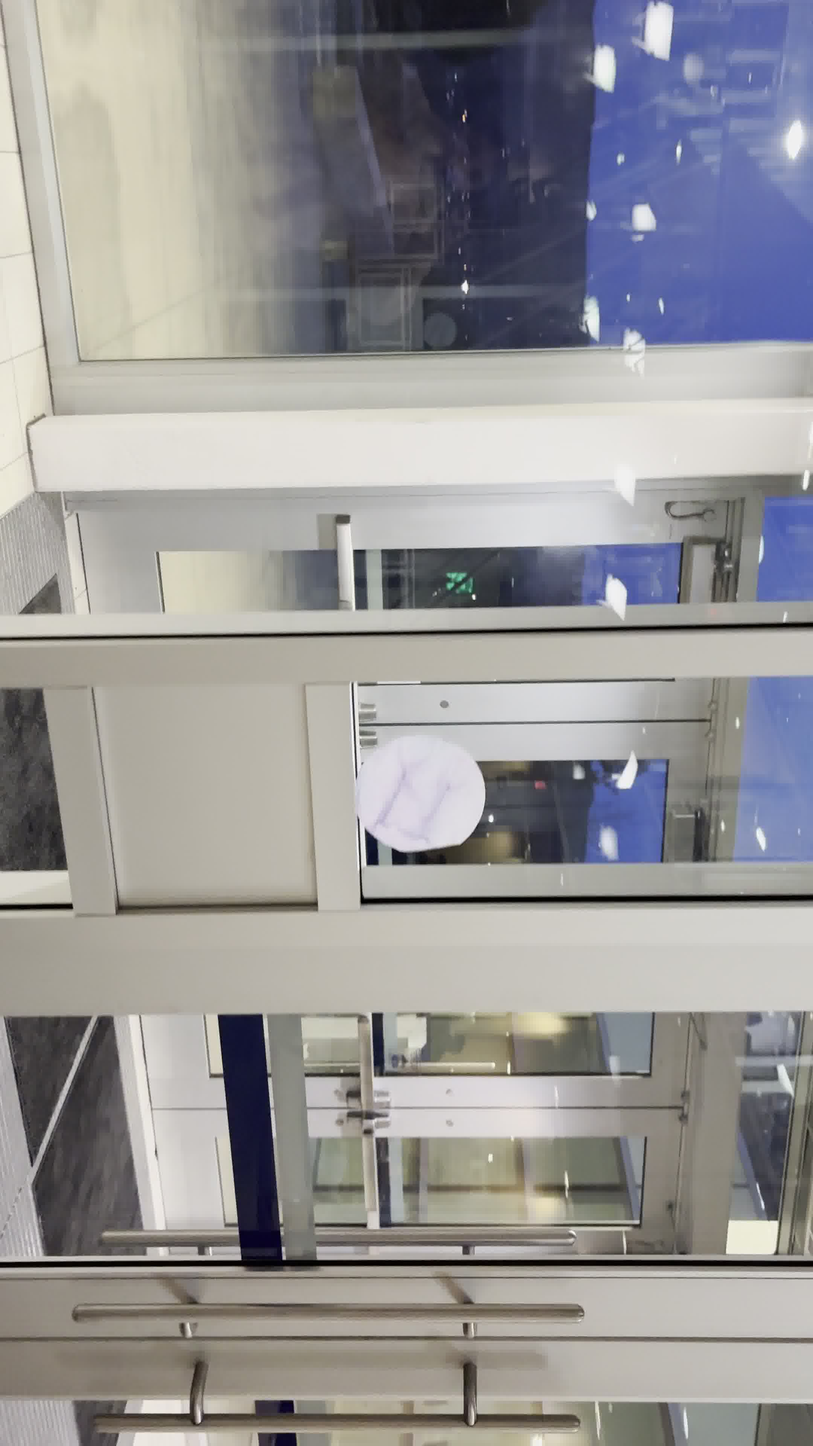Target: (351, 733, 489, 856)
